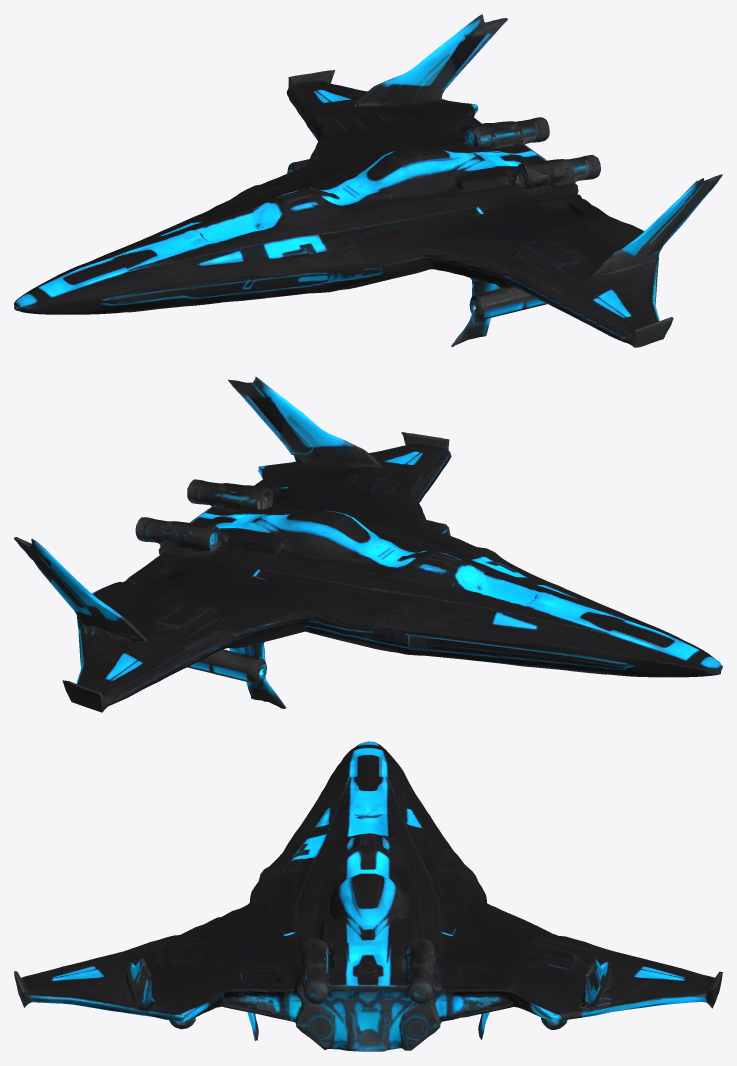
Rendered from ship21.glb.
3 views of the same model, one above another, from view 1: azimuth 30°, elevation 25°; view 2: azimuth 150°, elevation 25°; view 3: azimuth 270°, elevation 25° (orthographic). The views are drawn at different scales.
Visible parts, largest first — view 1: Mesh0; view 2: Mesh0; view 3: Mesh0.
Boxes of the visible parts, left/top/right/bottom form: Mesh0: left=14, top=14, right=722, bottom=347; Mesh0: left=14, top=376, right=722, bottom=712; Mesh0: left=14, top=741, right=722, bottom=1051.
Size of the model in its own units: 1.9 by 0.4961 by 1.91.
Materials: 1 (1 with a texture image).
